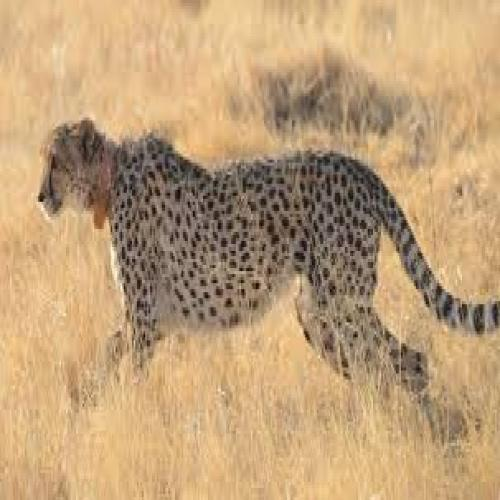cheetah-endangered: (35, 115, 500, 398)
